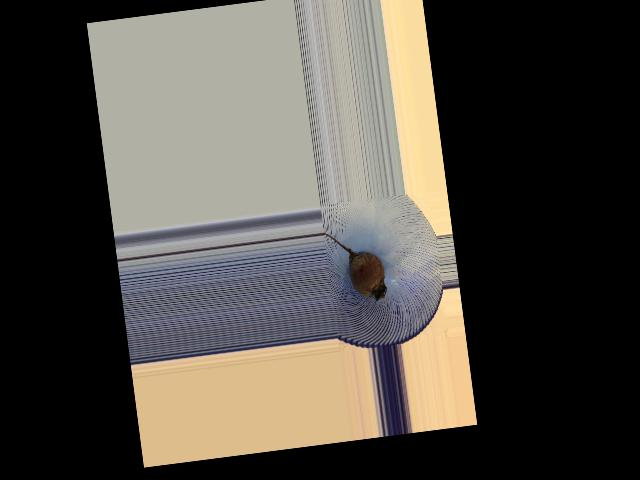beet: (323, 226, 387, 306)
